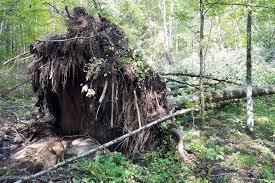Downstairs: (28, 3, 275, 158)
